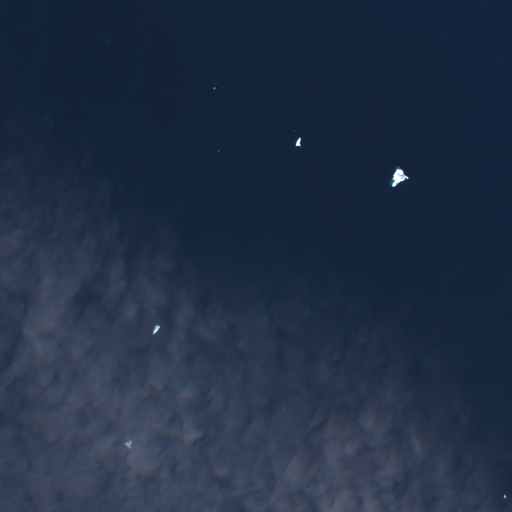Iceberg: (392, 166, 408, 186), (152, 324, 160, 334), (124, 441, 131, 448), (295, 137, 300, 146), (503, 494, 506, 498), (213, 87, 215, 89), (217, 150, 219, 151), (293, 130, 294, 131)
